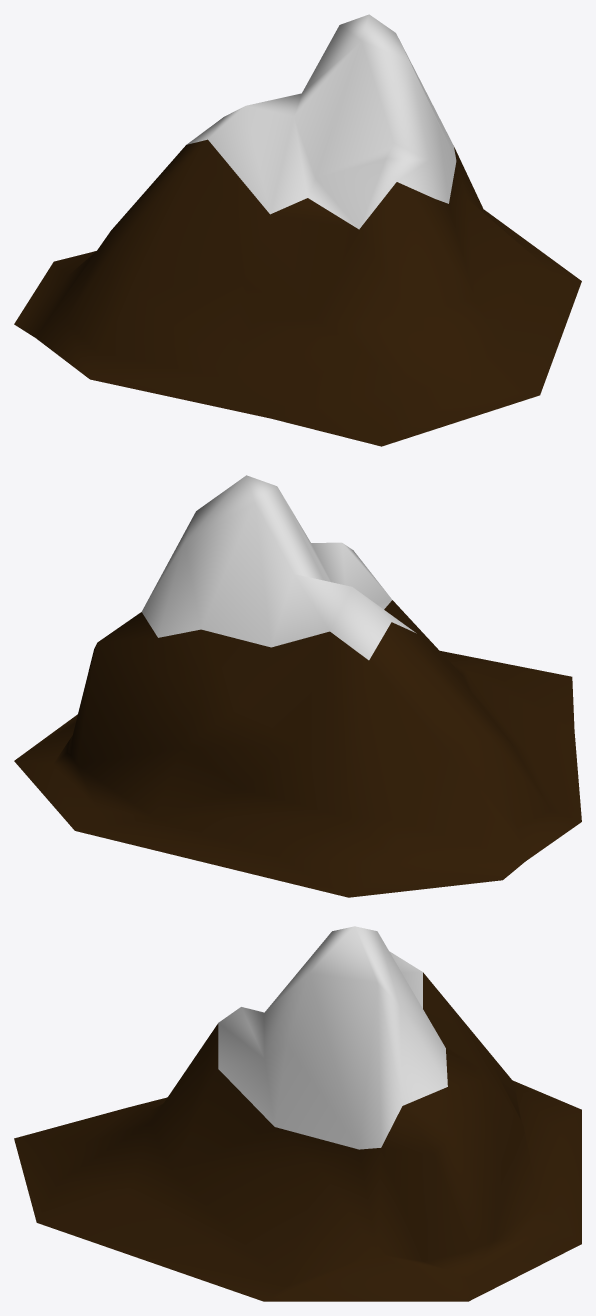
File: Mountain_01.fbx
3 renders of one model, top to bottom at view 1: azimuth 30°, elevation 25°; view 2: azimuth 150°, elevation 25°; view 3: azimuth 270°, elevation 25°, orthographic. The views are drawn at different scales.
Parts seen in each view (by area): view 1: SnowyMountain; view 2: SnowyMountain; view 3: SnowyMountain.
Boxes of the visible parts, x1=… form: SnowyMountain: x1=14, y1=14, x2=581, y2=446; SnowyMountain: x1=14, y1=475, x2=581, y2=897; SnowyMountain: x1=14, y1=926, x2=581, y2=1301.
Size of the model in its own units: 1250 by 702 by 1250.
